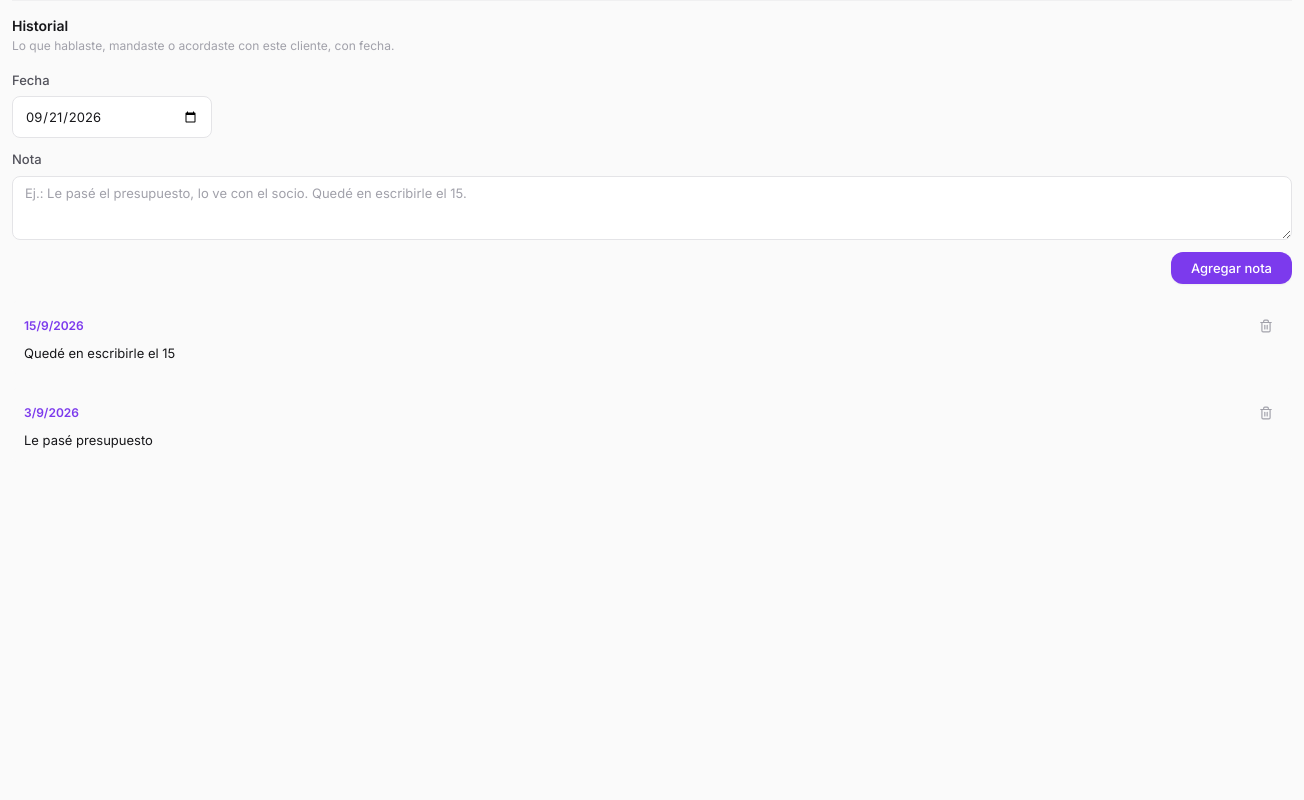
ClientNotes — add › defaults the date to today and adds the note to the top of the list, clearing the text
In the date field labelled "Fecha": (112, 117) [12, 96, 212, 138], type "2026-09-19"
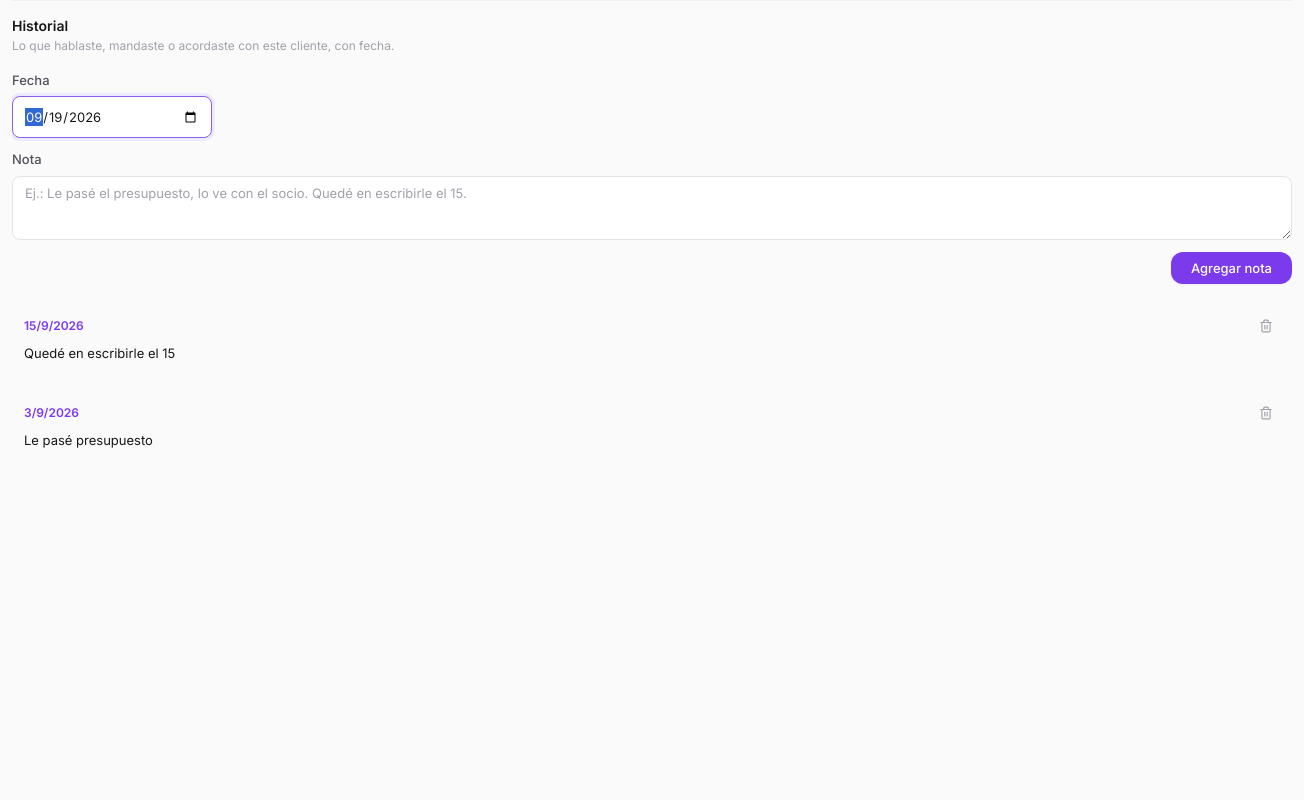
In the text box labelled "Nota": (652, 208) [12, 176, 1292, 240], type "  Llamé, no atendió  "
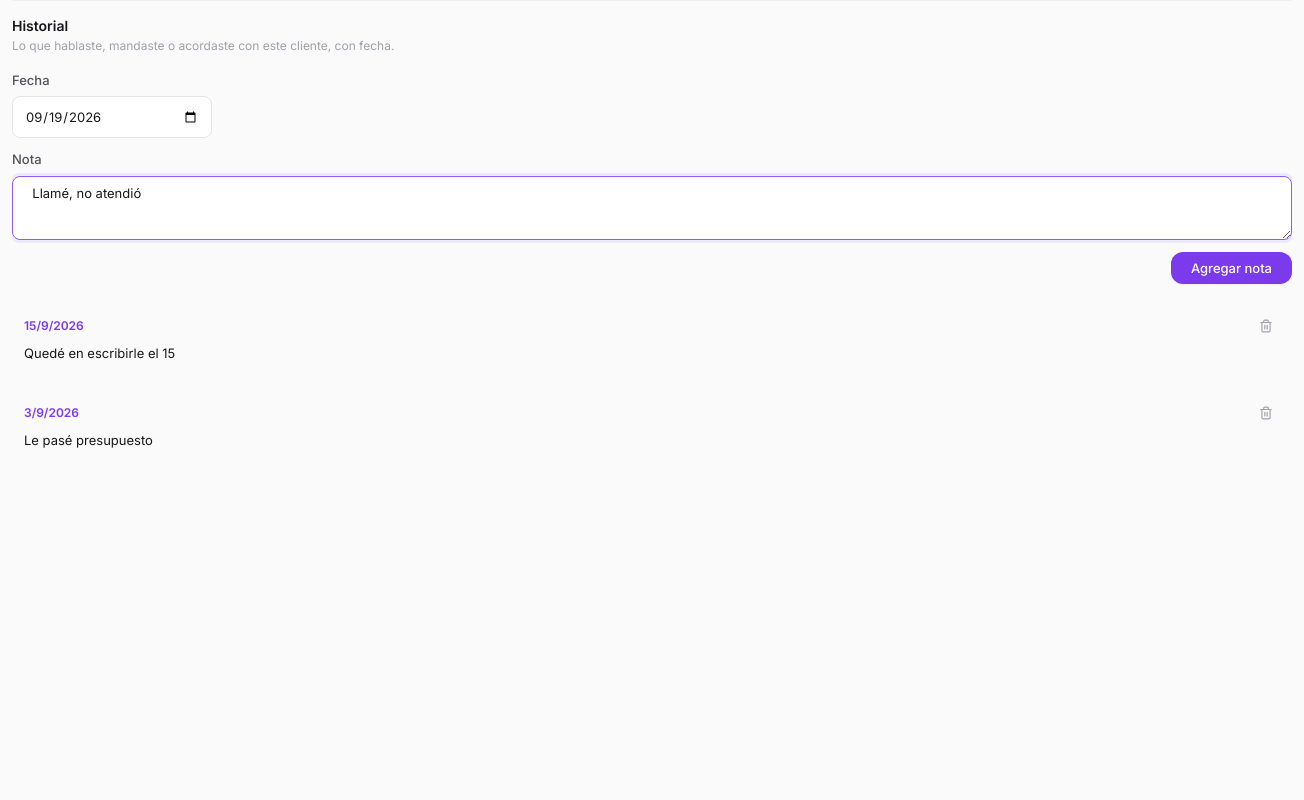
Click the button "Agregar nota": click(1231, 268) [1171, 252, 1292, 284]
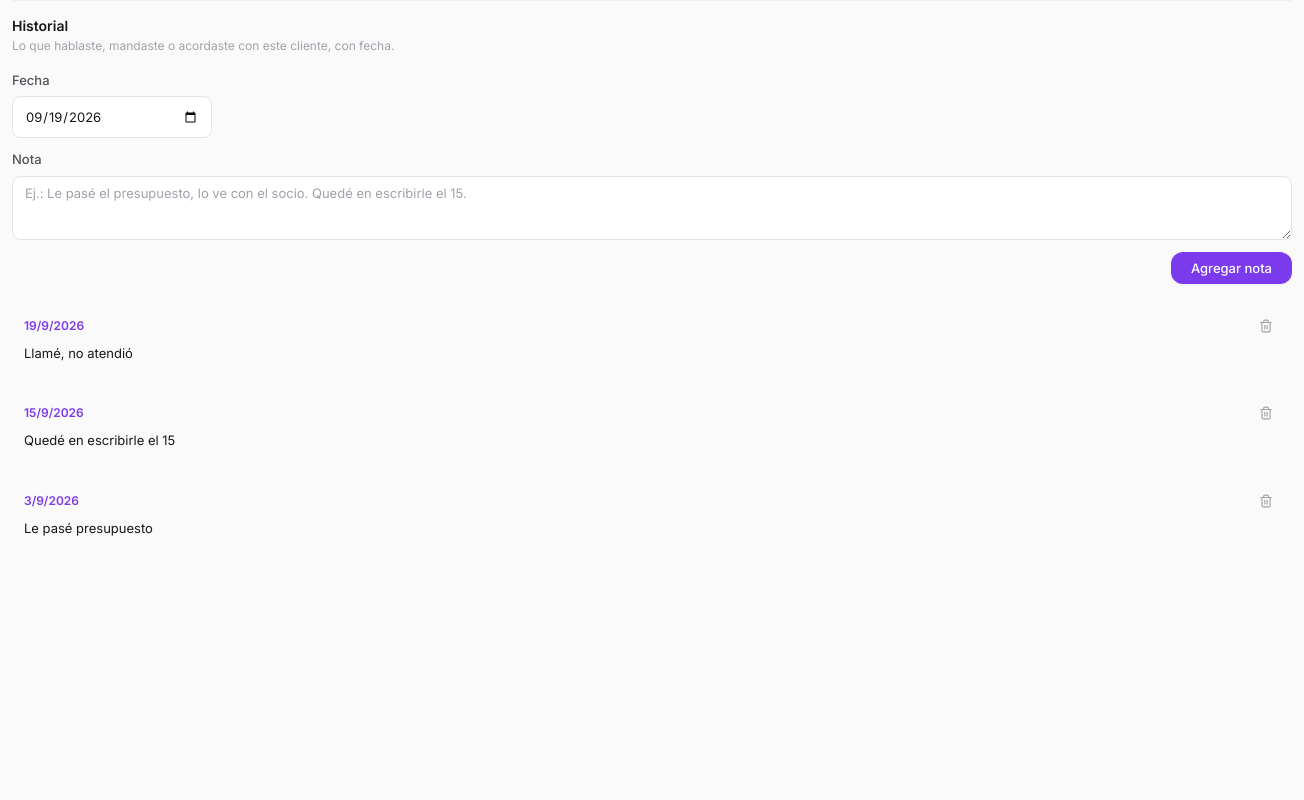
Now the number of list items is 3, box [12, 300, 1292, 375]; [12, 387, 1292, 462]; [12, 474, 1292, 550]
Now the text "Llamé, no atendió" is shown, box [24, 344, 133, 360]
Now the text box labelled "Nota" is empty, box [12, 176, 1292, 240]
